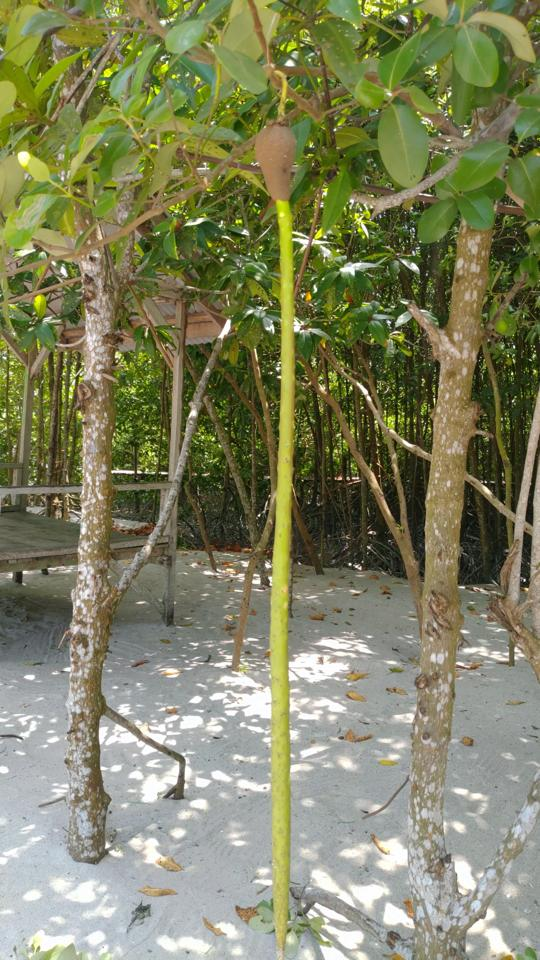mentah: (249, 99, 306, 958)
